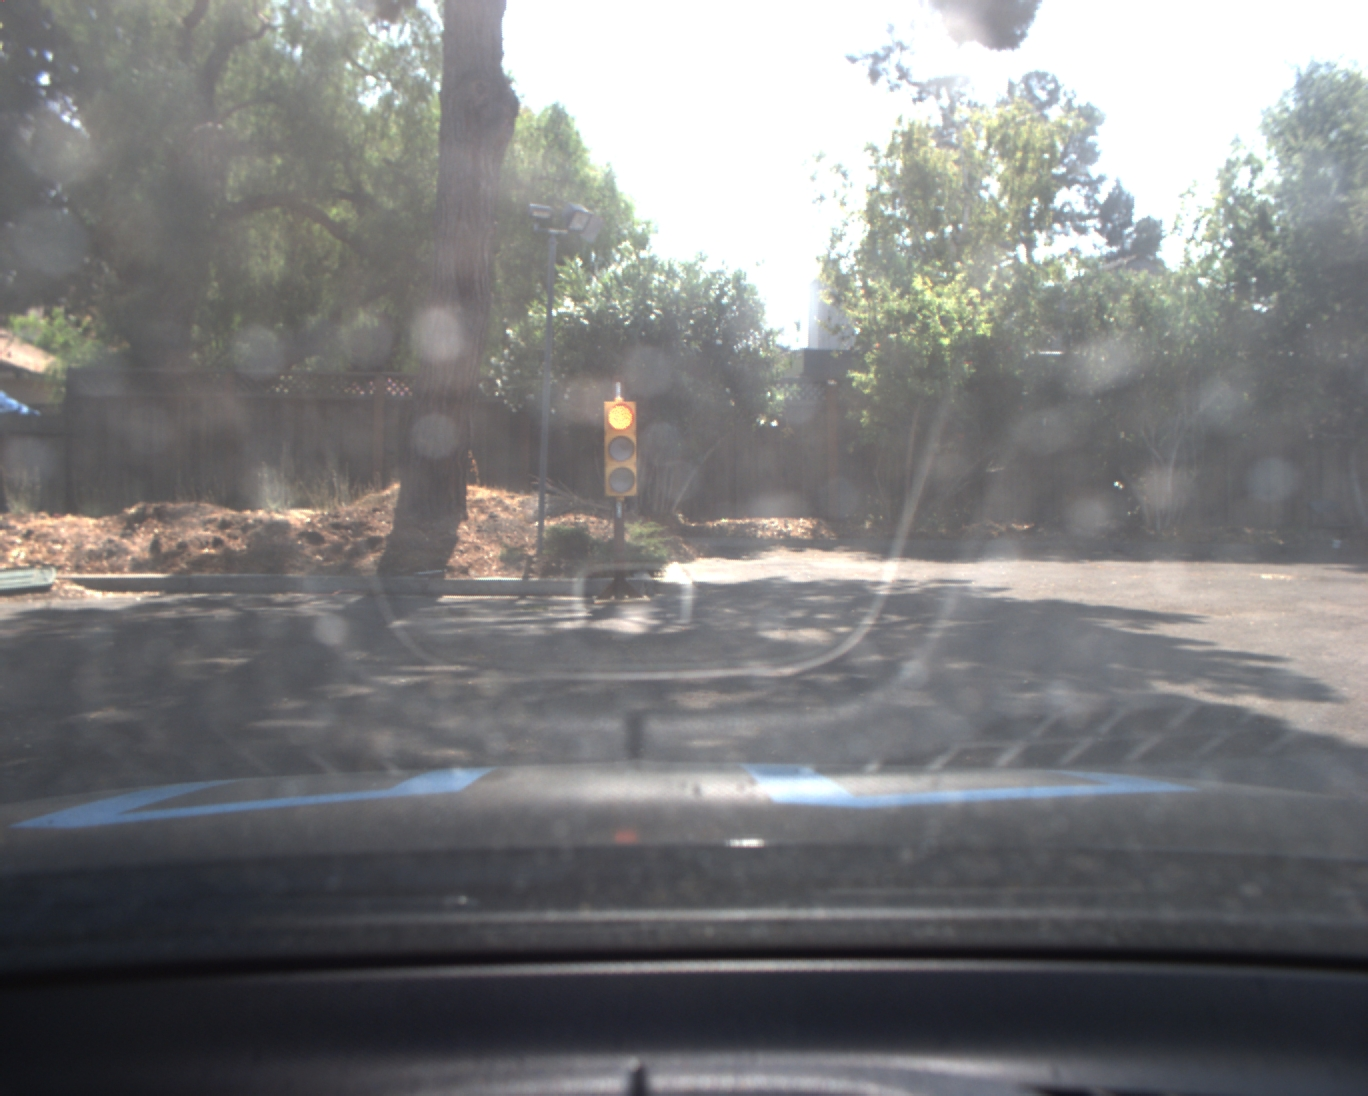red: (604, 403, 640, 497)
